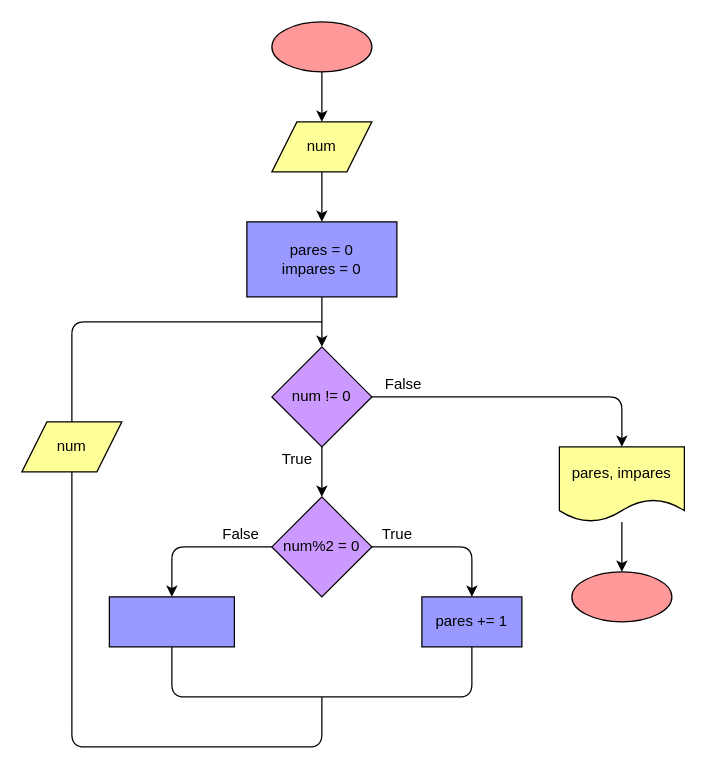
Some shapes in this 706 by 770 pixel diagram are drawn without their labels. Each missing label, with the box of its shape:
FIN: (571, 571, 672, 622)
impares += 1: (108, 596, 234, 647)
INICIO: (271, 21, 372, 72)
